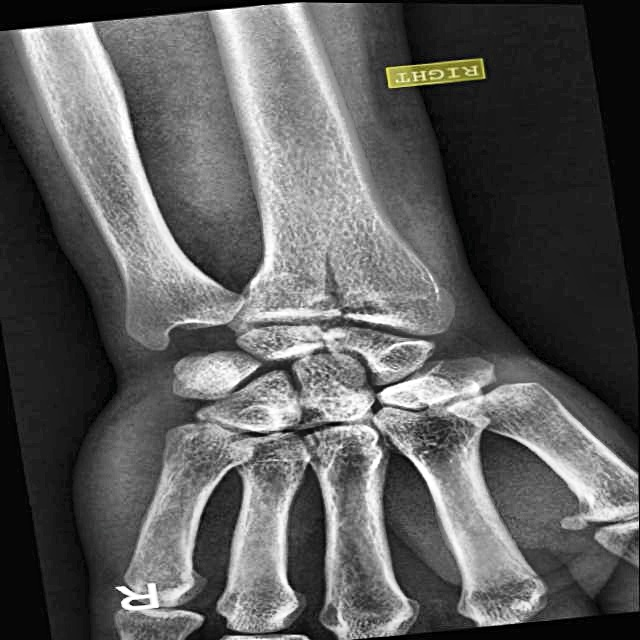Linear: (274, 234, 378, 336)
